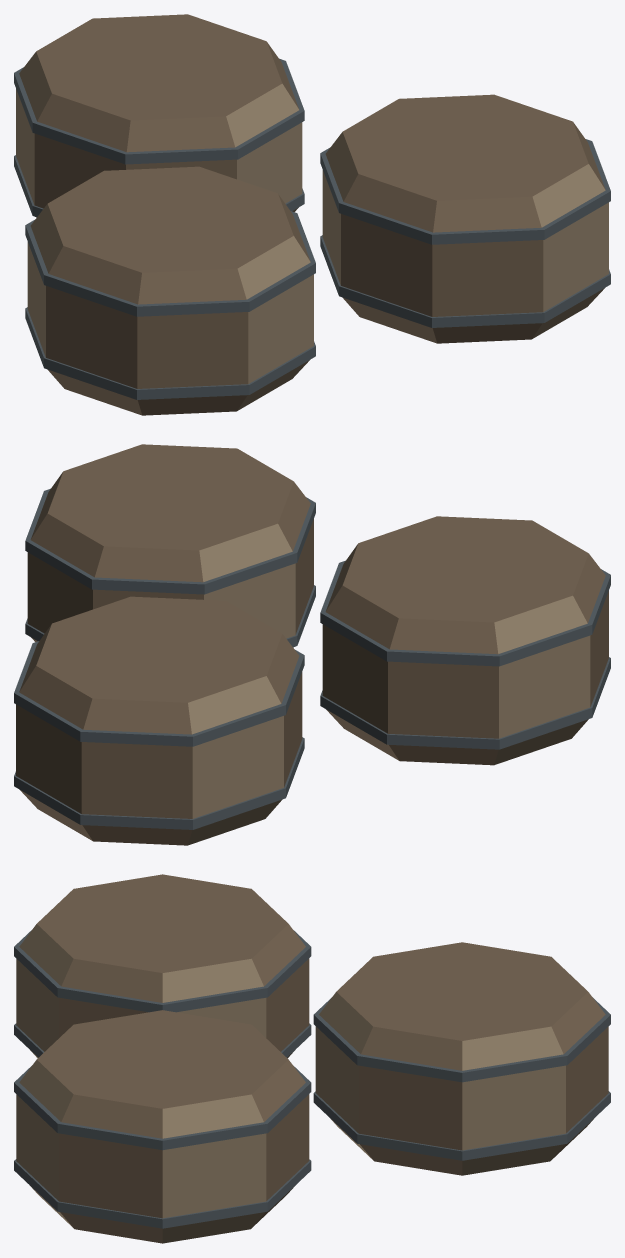
Rendered from cask_stack.glb.
The picture shows the model from 3 angles, top to bottom: view 1: azimuth 30°, elevation 25°; view 2: azimuth 150°, elevation 25°; view 3: azimuth 270°, elevation 25°; orthographic projection. The views are drawn at different scales.
Parts seen in each view (by area): view 1: cask_stack; view 2: cask_stack; view 3: cask_stack.
Part boxes in pixels (x1,y1,x2,y2): cask_stack: [14, 14, 610, 415]; cask_stack: [14, 444, 610, 845]; cask_stack: [14, 874, 610, 1243].
Size of the model in its own units: 1.92 by 0.48 by 1.92.
